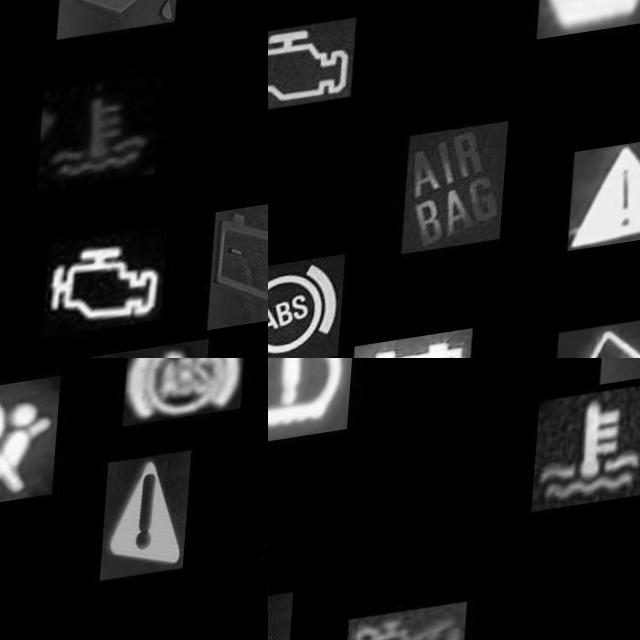Central Warning lamp: (109, 460, 199, 588), (572, 151, 640, 265)
Engine cooling system: (41, 81, 165, 195), (535, 401, 640, 527)
